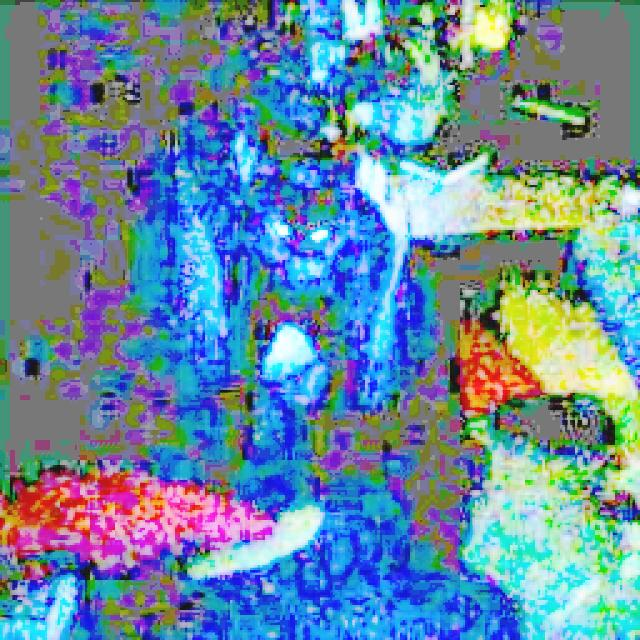cat: (192, 100, 438, 516)
